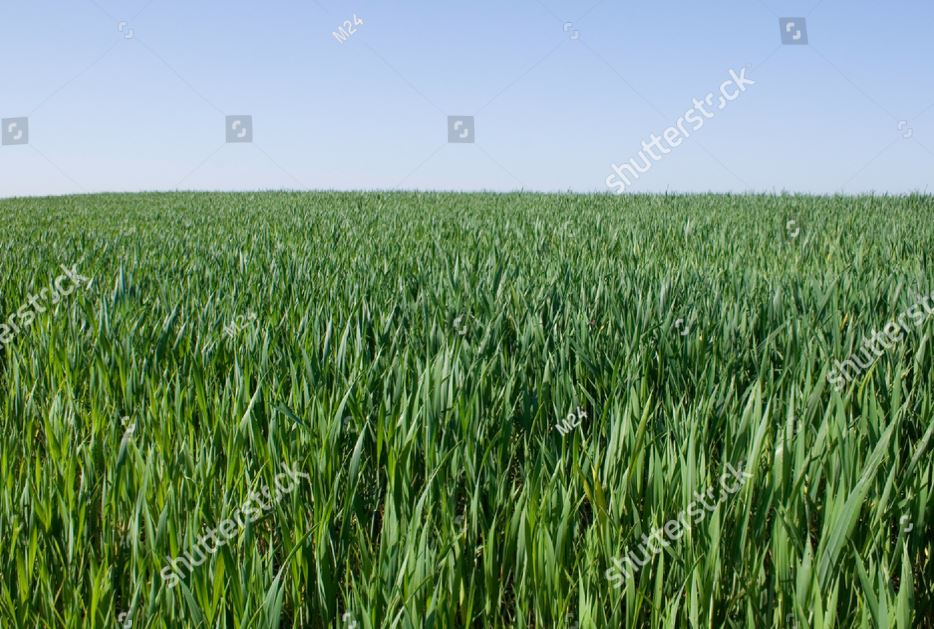Wheat: (181, 262, 818, 597)
